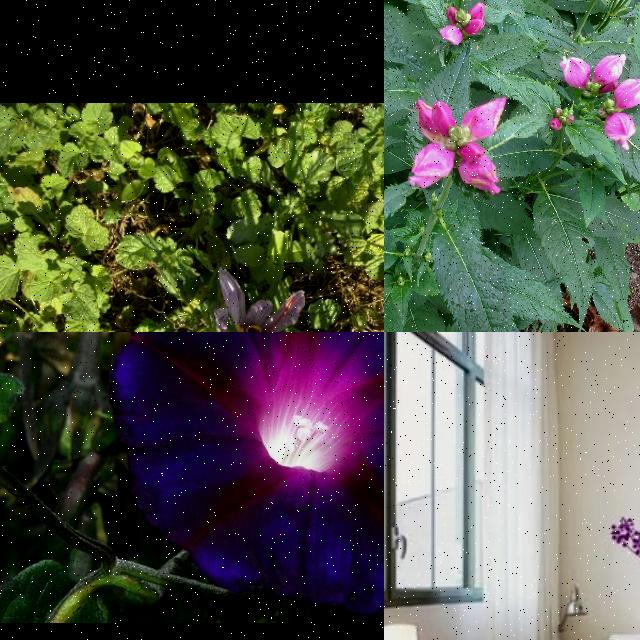flower: (214, 268, 306, 332)
